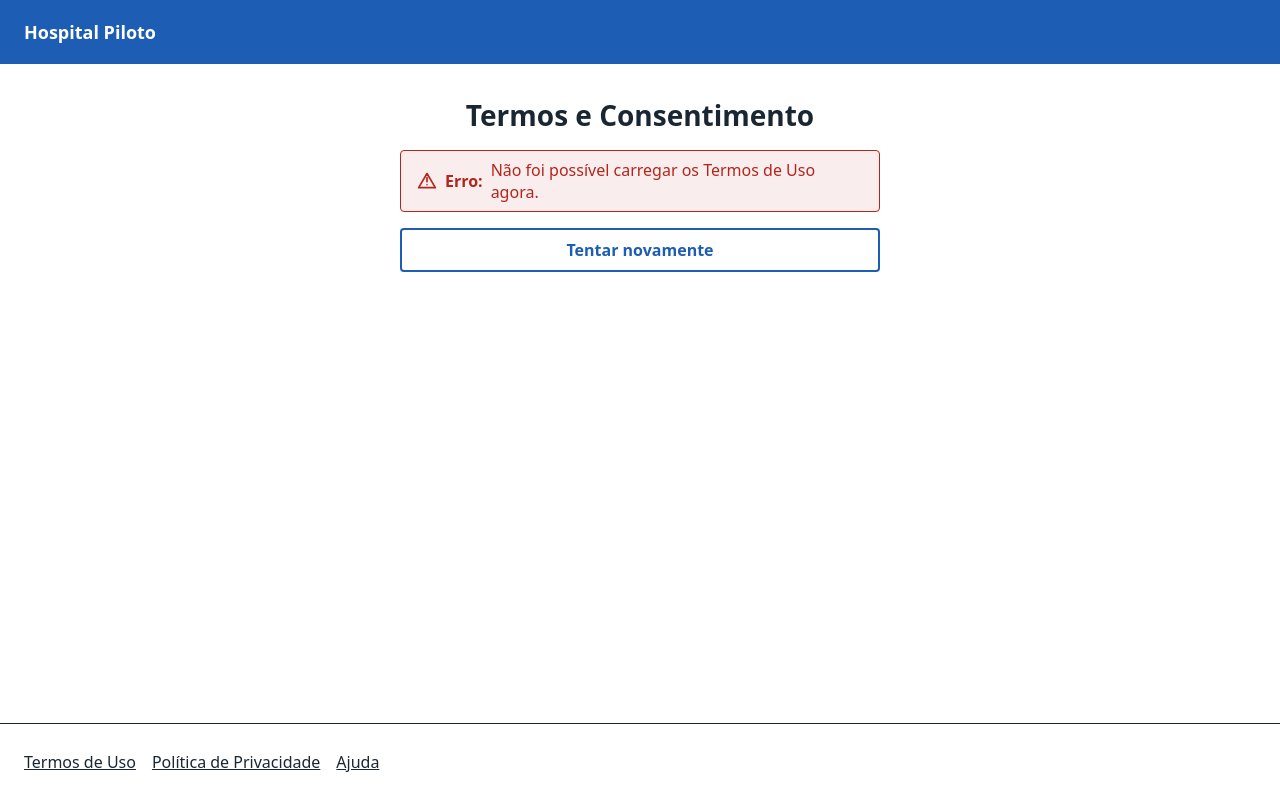
Test: CadastroTermosConsentimentoPage (TL-05 — Termos e Consentimento LGPD, RF-12/RN-02) › "Tentar novamente" reexecuta o carregamento e permite prosseguir após sucesso
Click the button "Tentar novamente". click: {"x": 640, "y": 250}
box: [400,228,880,272]
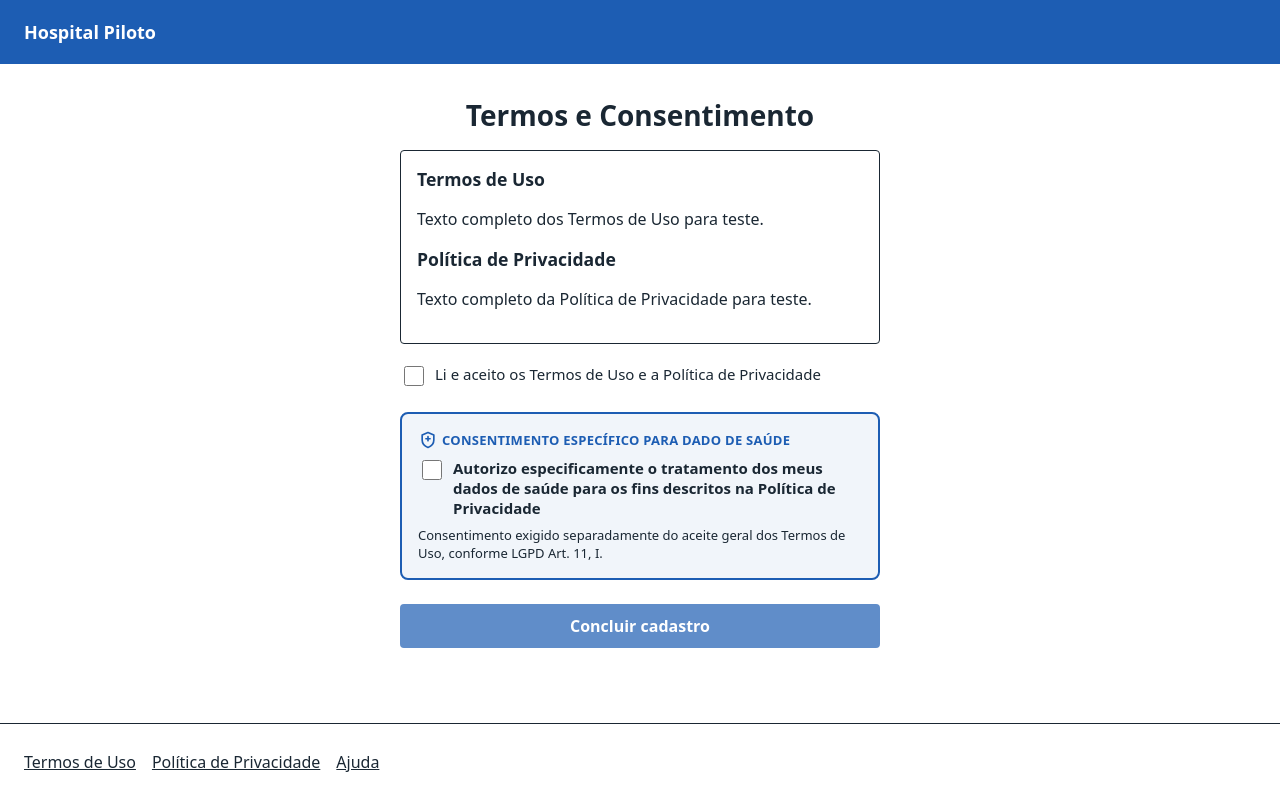
Expected: the element named "Texto completo dos Termos de Uso e Política de Privacidade" is shown, [400,150,880,344]
